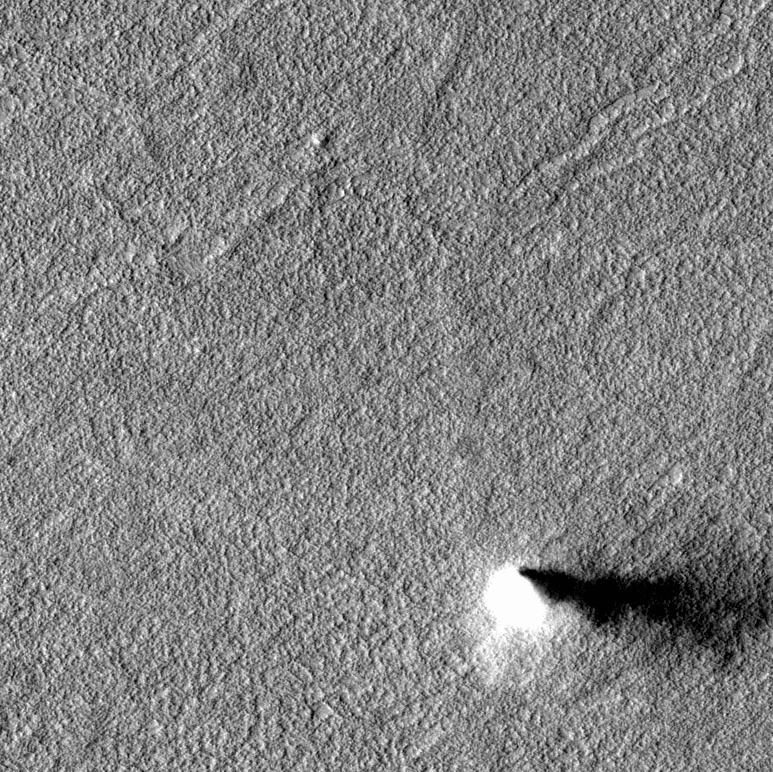dust_devil: (470, 546, 773, 688)
